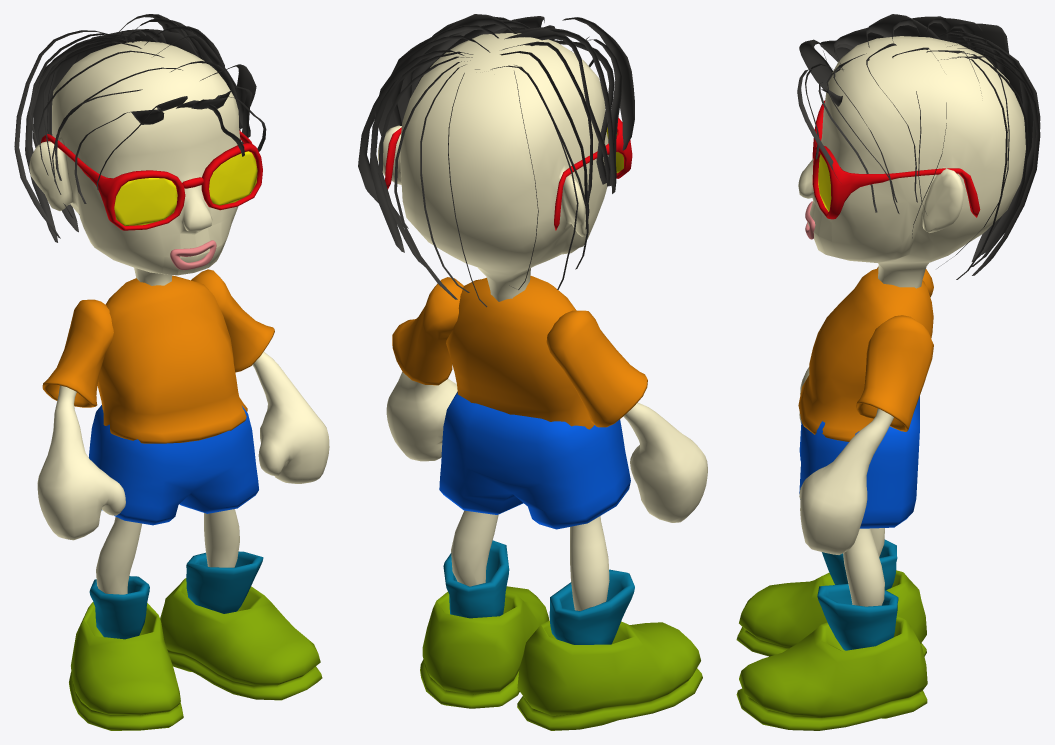
The picture shows the model from 3 angles, left to right: view 1: azimuth 30°, elevation 25°; view 2: azimuth 150°, elevation 25°; view 3: azimuth 270°, elevation 25°; orthographic projection. The views are drawn at different scales.
Parts seen in each view (by area): view 1: Sphere01.001, Box01.001, Box06.001, Box03.001, Box04.001, Box02.001, Box05.001, Tube01.001, Tube04.001, Tube03.001, Tube02.001, Cylinder03.001 (+15 smaller); view 2: Sphere01.001, Box03.001, Box04.001, Box01.001, Box06.001, Tube01.001, Box02.001, Tube03.001, Box05.001, Tube02.001, Cylinder01.001, Tube04.001 (+18 smaller); view 3: Sphere01.001, Box06.001, Box01.001, Box05.001, Box04.001, Box03.001, Tube03.001, Tube04.001, Tube06.001, Cylinder02.001, QuadPatch08.001, Tube02.001 (+13 smaller).
Boxes of the visible parts, x1=… form: Sphere01.001: x1=29, y1=41, x2=240, y2=285; Box01.001: x1=97, y1=275, x2=247, y2=443; Box06.001: x1=160, y1=578, x2=322, y2=700; Box03.001: x1=89, y1=405, x2=258, y2=525; Box04.001: x1=69, y1=602, x2=183, y2=730; Box02.001: x1=37, y1=385, x2=125, y2=540; Box05.001: x1=252, y1=351, x2=329, y2=483; Tube01.001: x1=42, y1=299, x2=113, y2=407; Tube04.001: x1=186, y1=551, x2=263, y2=613; Tube03.001: x1=191, y1=269, x2=274, y2=372; Tube02.001: x1=89, y1=576, x2=149, y2=639; Cylinder03.001: x1=114, y1=178, x2=177, y2=225; Sphere01.001: x1=378, y1=33, x2=608, y2=301; Box03.001: x1=439, y1=391, x2=630, y2=529; Box04.001: x1=517, y1=620, x2=702, y2=730; Box01.001: x1=446, y1=275, x2=593, y2=429; Box06.001: x1=420, y1=586, x2=549, y2=708; Tube01.001: x1=546, y1=310, x2=647, y2=427; Box02.001: x1=623, y1=402, x2=707, y2=522; Tube03.001: x1=392, y1=277, x2=463, y2=385; Box05.001: x1=386, y1=372, x2=457, y2=461; Tube02.001: x1=549, y1=569, x2=634, y2=644; Cylinder01.001: x1=570, y1=516, x2=609, y2=610; Tube04.001: x1=443, y1=540, x2=509, y2=618; Sphere01.001: x1=798, y1=36, x2=1025, y2=288; Box06.001: x1=736, y1=616, x2=927, y2=730; Box01.001: x1=798, y1=268, x2=933, y2=441; Box05.001: x1=799, y1=408, x2=893, y2=554; Box04.001: x1=736, y1=570, x2=926, y2=656; Box03.001: x1=799, y1=396, x2=919, y2=528; Tube03.001: x1=856, y1=315, x2=933, y2=431; Tube04.001: x1=817, y1=584, x2=898, y2=650; Tube06.001: x1=812, y1=146, x2=980, y2=219; Cylinder02.001: x1=843, y1=528, x2=884, y2=606; QuadPatch08.001: x1=947, y1=43, x2=1040, y2=255; Tube02.001: x1=822, y1=539, x2=897, y2=589.
Bounding box in the file's own units: 231 × 494 × 209.
